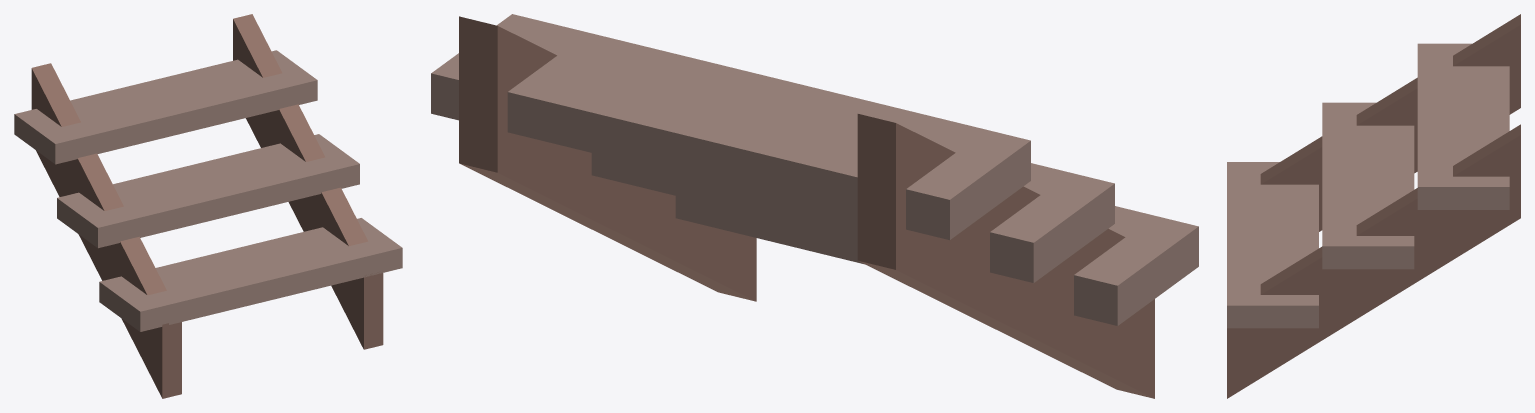
The model's file is prop_078.fbx.
3 renders of one model, left to right at view 1: azimuth 30°, elevation 25°; view 2: azimuth 150°, elevation 25°; view 3: azimuth 270°, elevation 25°, orthographic. The views are drawn at different scales.
Parts seen in each view (by area): view 1: prop.078; view 2: prop.078; view 3: prop.078.
Part boxes in pixels (x1,y1,x2,y2): prop.078: [14, 14, 402, 398]; prop.078: [431, 14, 1198, 398]; prop.078: [1227, 14, 1520, 398].
Bounding box in the file's own units: 191 × 164 × 165.
1 material, 1 textured.
